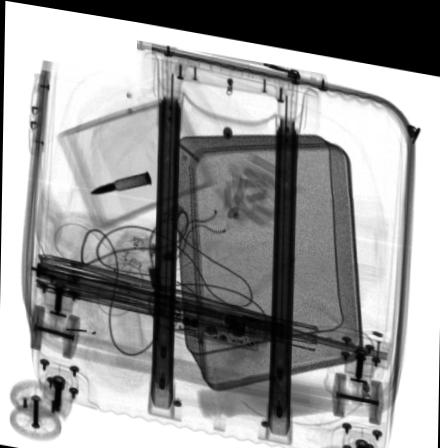Bullet: (89, 165, 151, 190)
